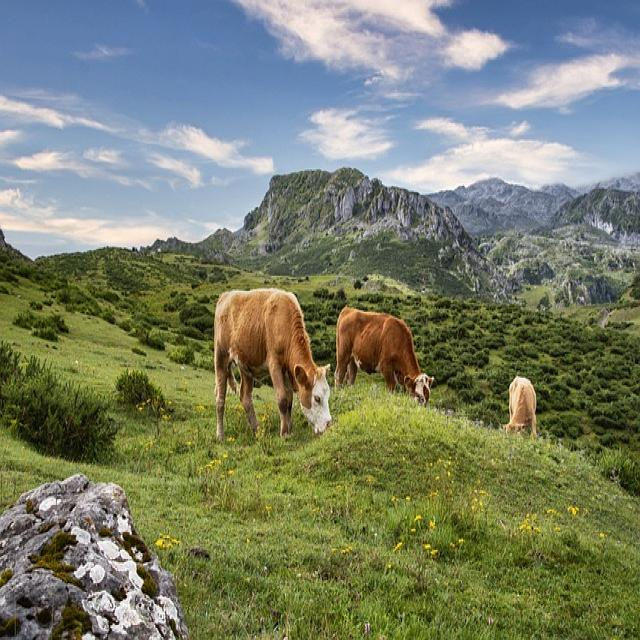Herbivorous: (213, 289, 333, 441), (333, 307, 433, 406), (506, 378, 539, 436)
